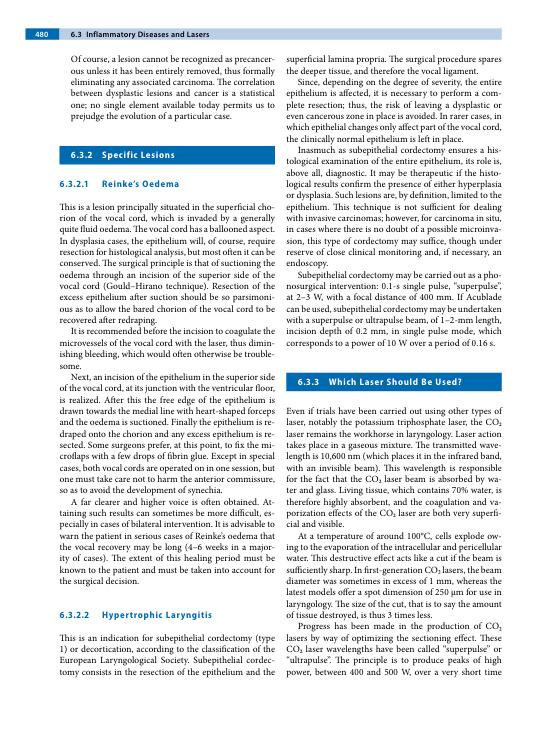header: (85, 30, 210, 40)
section-heading: (328, 376, 463, 387), (101, 150, 175, 161)
sub-section-heading: (101, 610, 212, 621), (101, 178, 180, 188)
text: (57, 201, 276, 588), (285, 53, 503, 350), (285, 405, 503, 679), (69, 53, 276, 123), (57, 632, 276, 679)
